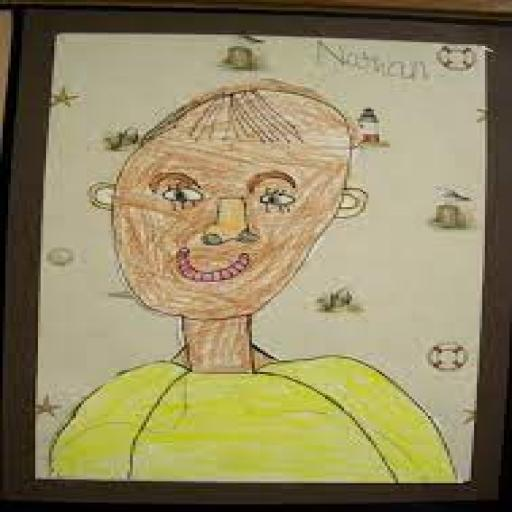person: (48, 82, 451, 481)
